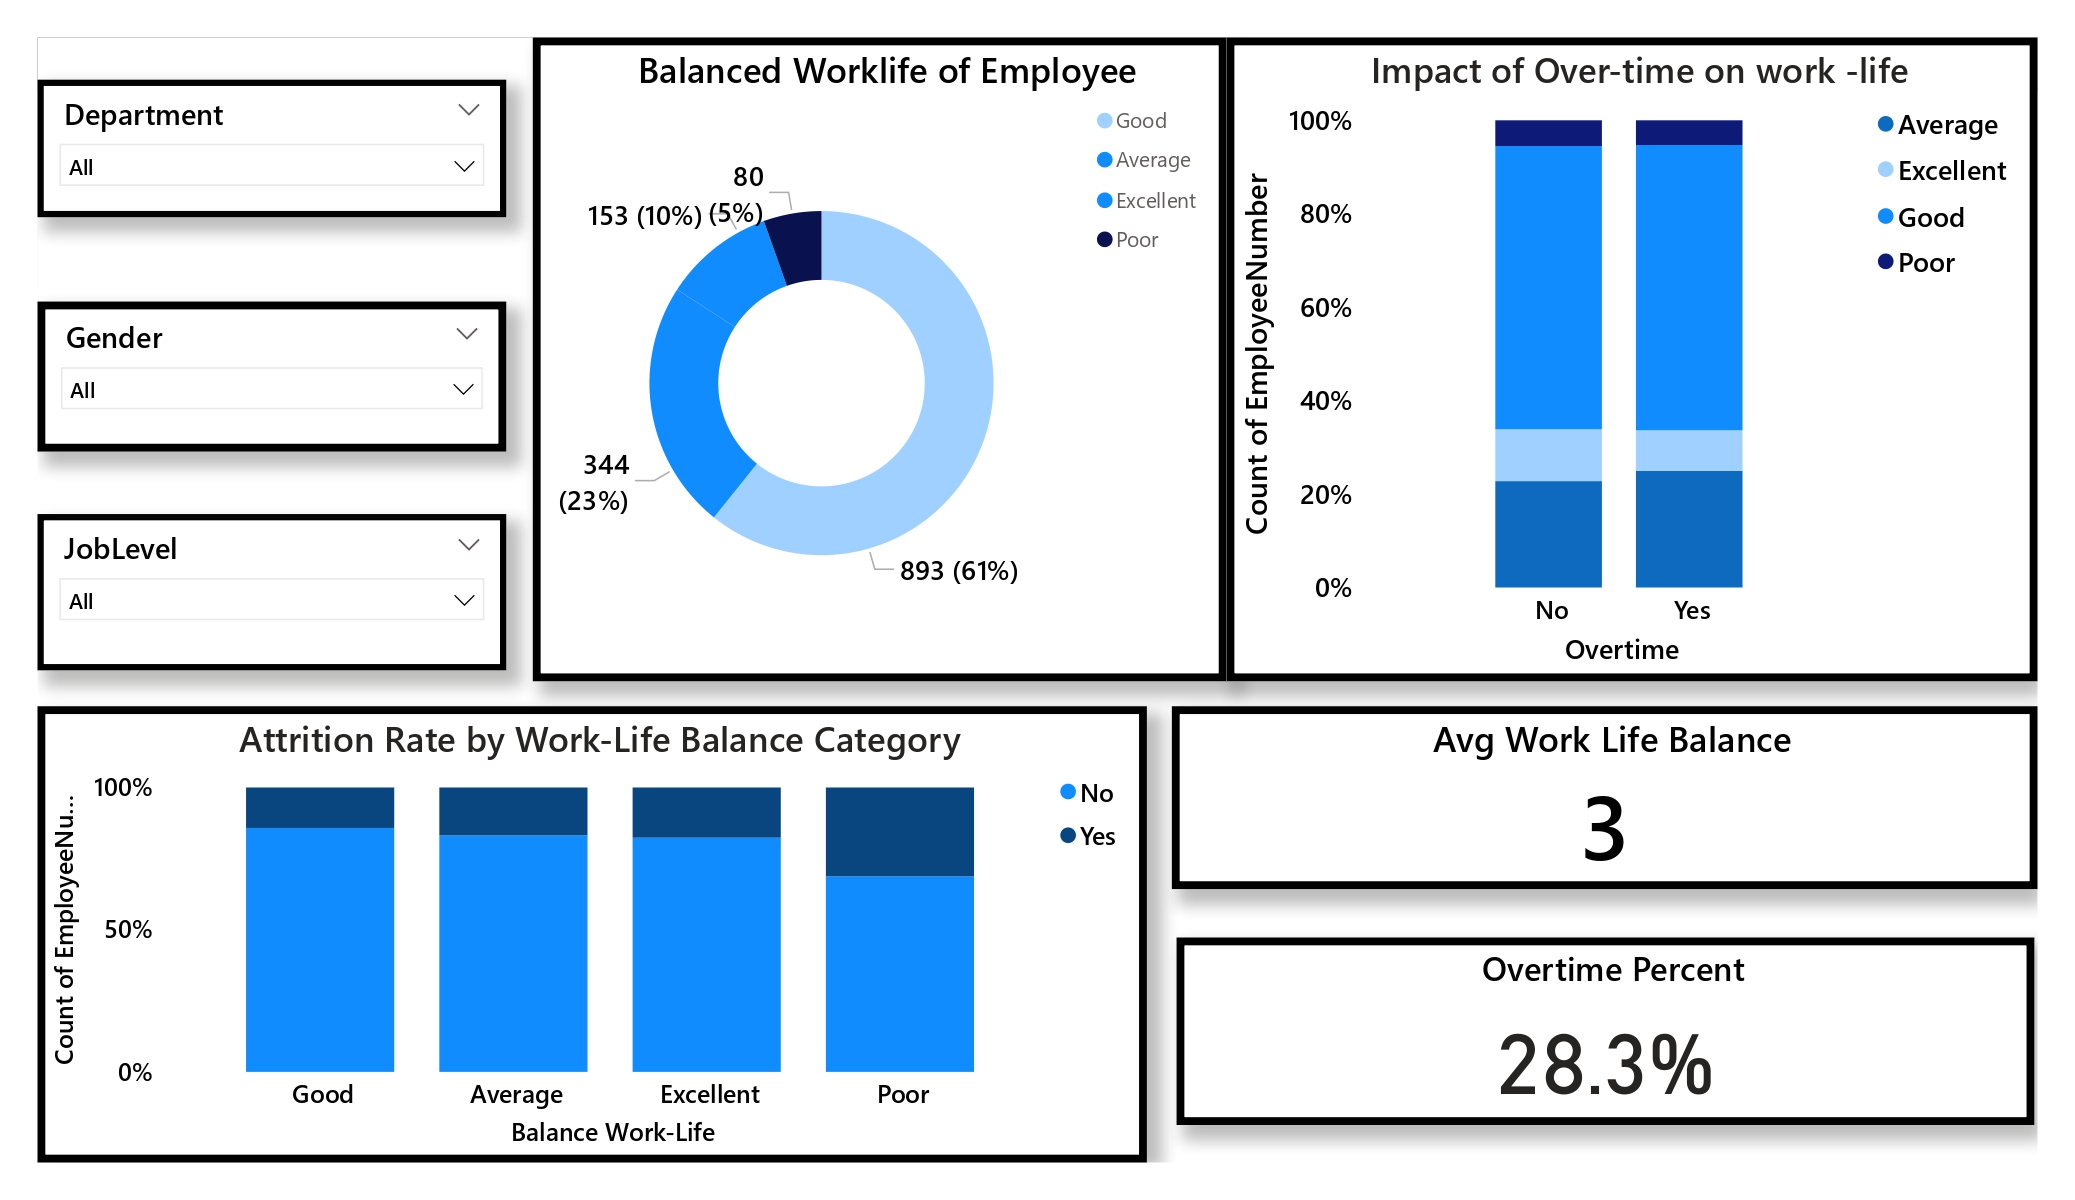

This screenshot's page, from the dashboard's own definition file:
{"tool":"powerbi","page":{"name":"Work-Life","canvas":[1280,720],"ordinal":3},"visuals":[{"type":"actionButton","box":[55.3,8.5,215.4,107.7],"z":0},{"type":"actionButton","box":[55.3,157.3,223.9,107.7],"z":1000},{"type":"actionButton","box":[45.4,306.1,233.9,107.7],"z":2000},{"type":"actionButton","box":[50.6,305.4,235.4,107],"z":3000},{"type":"actionButton","box":[49.6,582.5,233.9,107.7],"z":4000},{"type":"card","title":"Avg Work Life Balance","fields":{"Values":["Avg(ibm data.WorkLifeBalance)"]},"box":[725.6,428,554.4,116.7],"z":5000},{"type":"donutChart","title":"Balanced Worklife of Employee","fields":{"Category":["ibm data.Custom"],"Y":["CountNonNull(ibm data.EmployeeNumber)"]},"box":[317.1,0,443.5,412.4],"z":6000},{"type":"hundredPercentStackedColumnChart","title":"Attrition Rate by Work-Life Balance Category","fields":{"Category":["ibm data.Balaced work life"],"Series":["ibm data.Attrition"],"Y":["CountNonNull(ibm data.EmployeeNumber)"]},"box":[0,428,710,291.8],"z":7000},{"type":"slicer","fields":{"Values":["ibm data.Department"]},"box":[0,27.2,299.6,87.5],"z":8000},{"type":"slicer","fields":{"Values":["ibm data.Gender"]},"box":[0,169.2,299.6,95.3],"z":9000},{"type":"slicer","fields":{"Values":["ibm data.JobLevel"]},"box":[0,305.4,299.6,99.2],"z":10000},{"type":"card","title":"Overtime Percent","fields":{"Values":["ibm data.Overtime percent"]},"box":[729.5,575.8,548.6,120.6],"z":11000},{"type":"hundredPercentStackedColumnChart","title":"Impact of Over-time on work -life","fields":{"Y":["CountNonNull(ibm data.EmployeeNumber)"],"Category":["ibm data.OverTime"],"Series":["ibm data.Balaced work life"]},"box":[760.6,0,519.4,412.4],"z":12000}]}

Visuals, with their boxes in screenshot pixels (x1, y1, x2, y2):
actionButton: detection(139, 51, 471, 217)
actionButton: detection(139, 280, 485, 446)
actionButton: detection(124, 510, 485, 676)
actionButton: detection(132, 509, 495, 674)
actionButton: detection(131, 936, 491, 1102)
"Avg Work Life Balance" card: detection(1173, 698, 2028, 878)
"Balanced Worklife of Employee" donutChart: detection(543, 38, 1227, 674)
"Attrition Rate by Work-Life Balance Category" hundredPercentStackedColumnChart: detection(54, 698, 1149, 1148)
slicer - ibm data.Department: detection(54, 80, 516, 215)
slicer - ibm data.Gender: detection(54, 299, 516, 446)
slicer - ibm data.JobLevel: detection(54, 509, 516, 662)
"Overtime Percent" card: detection(1179, 926, 2025, 1112)
"Impact of Over-time on work -life" hundredPercentStackedColumnChart: detection(1227, 38, 2028, 674)
